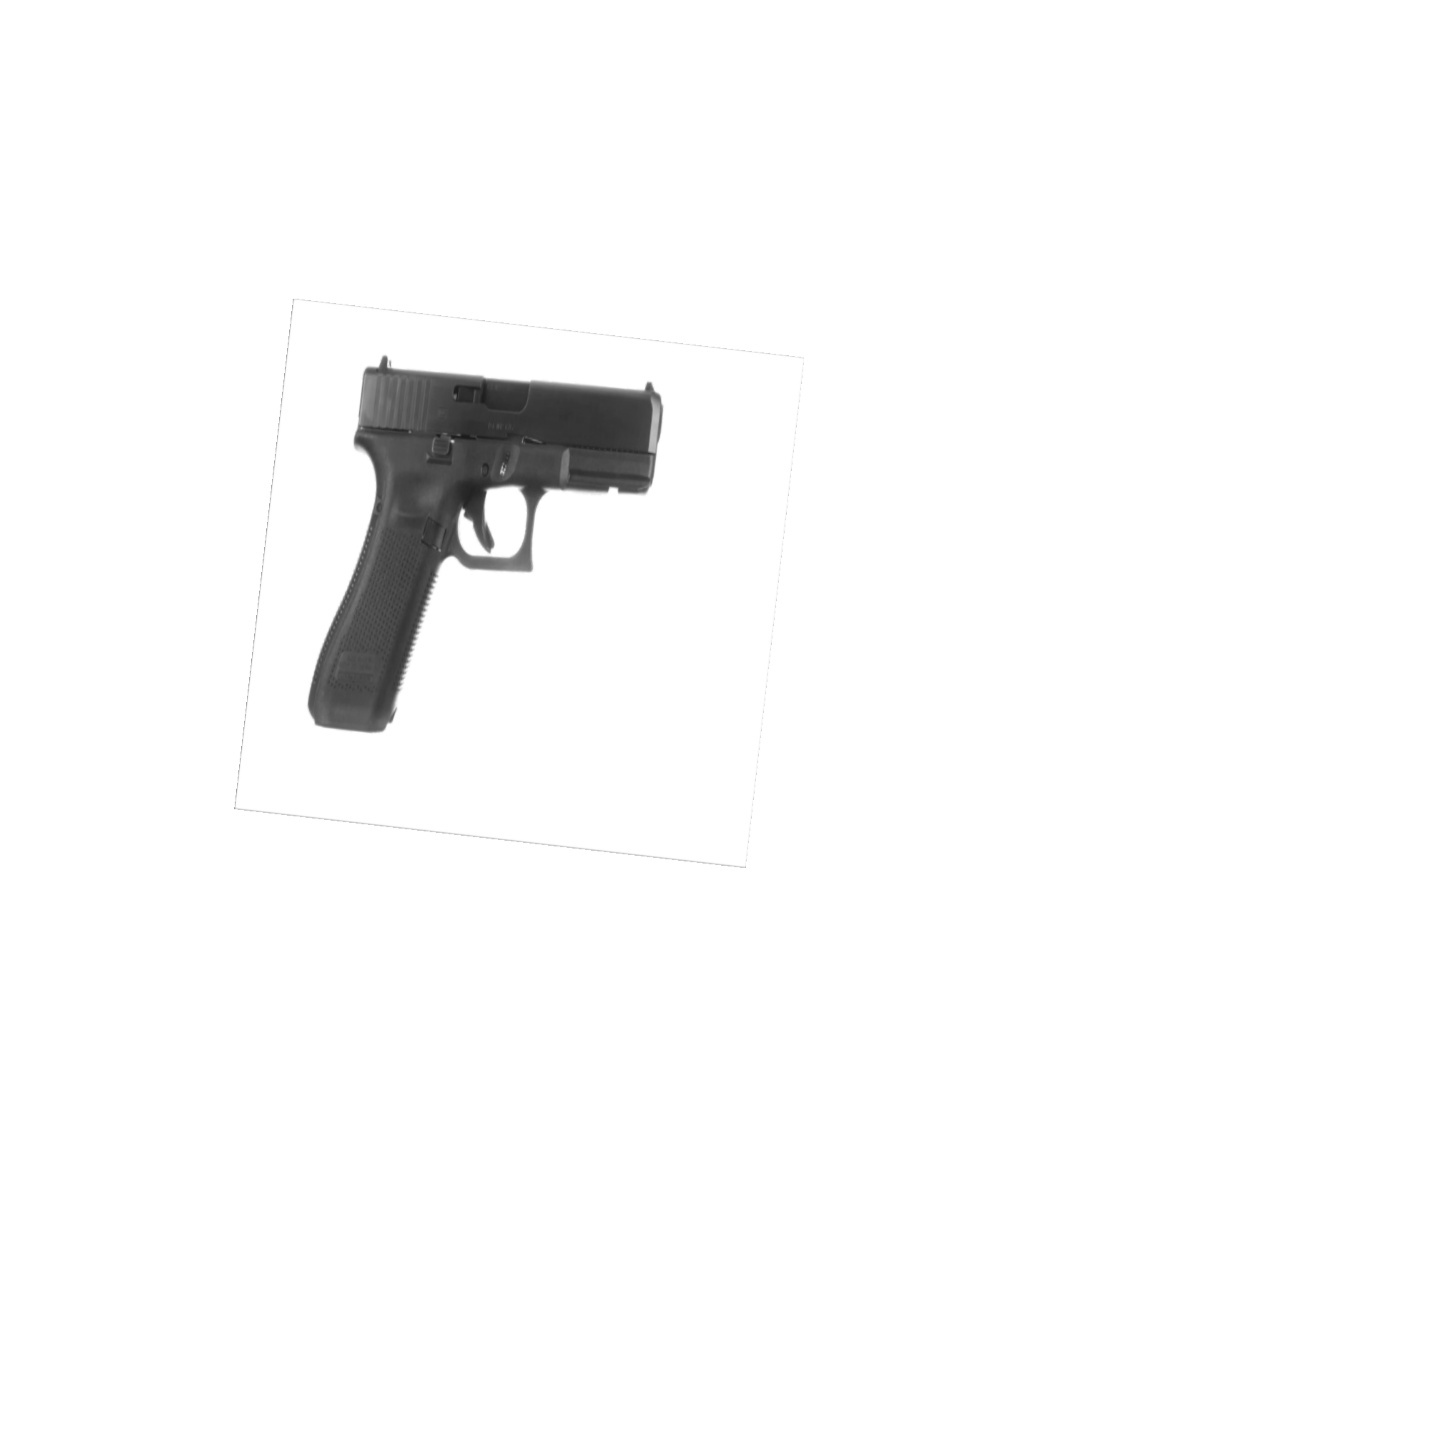gun: (300, 345, 679, 740)
